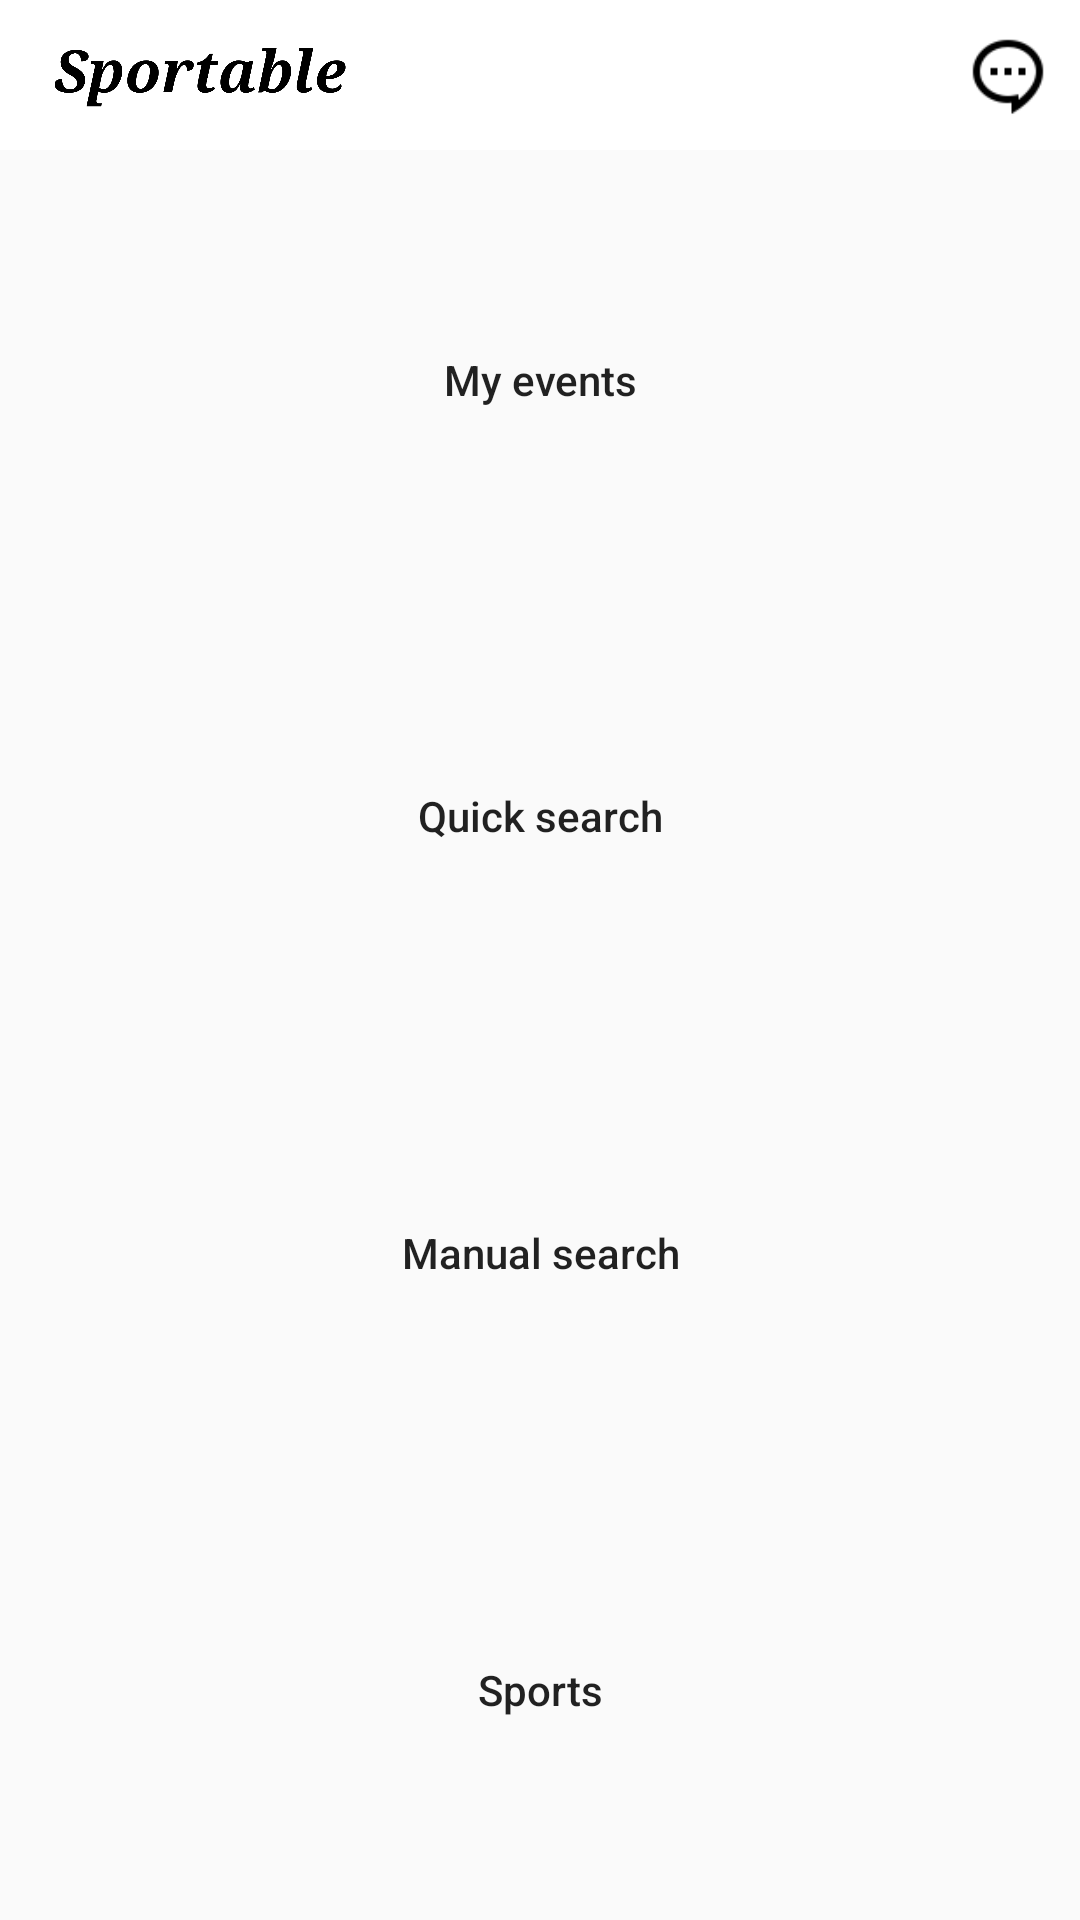

Icons on this 1080px x 1920px Android screen, each with the point to tap as point (x, y):
messages: point (1008, 76)
